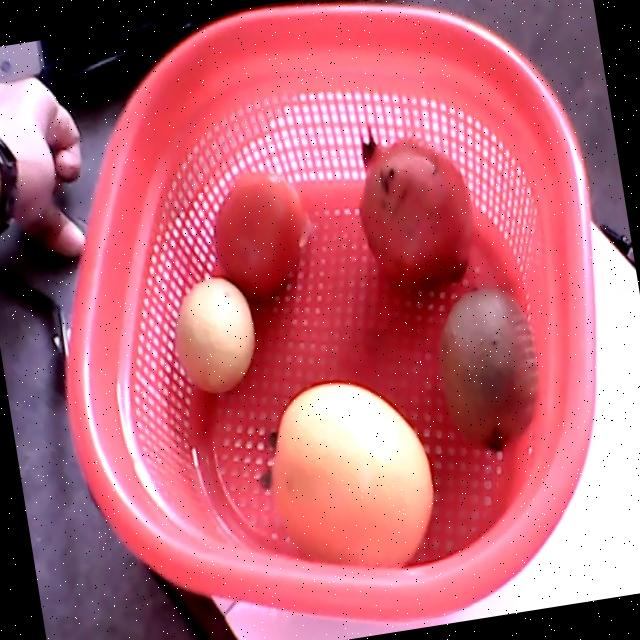kiwi: (439, 292, 539, 452)
lemon: (178, 279, 255, 393)
orange: (259, 383, 433, 568)
pomegranate: (359, 128, 474, 292)
tomato: (216, 170, 306, 302)
